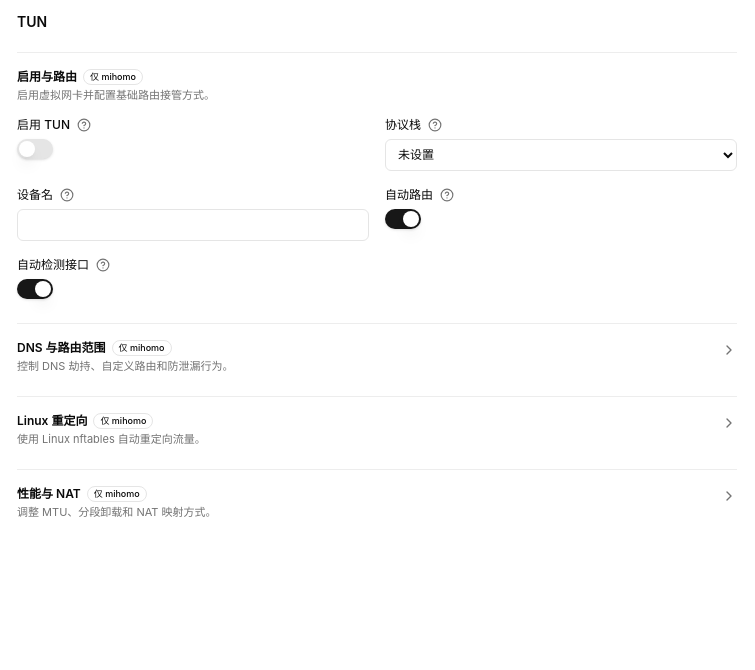
Test: migrated editor UX › keeps non-core fields collapsed by default
Click the button "DNS 与路由范围 仅 mihomo 控制 DNS 劫持、自定义路由和防泄漏行为。".
click(61, 347)  # box [17,340,737,376]
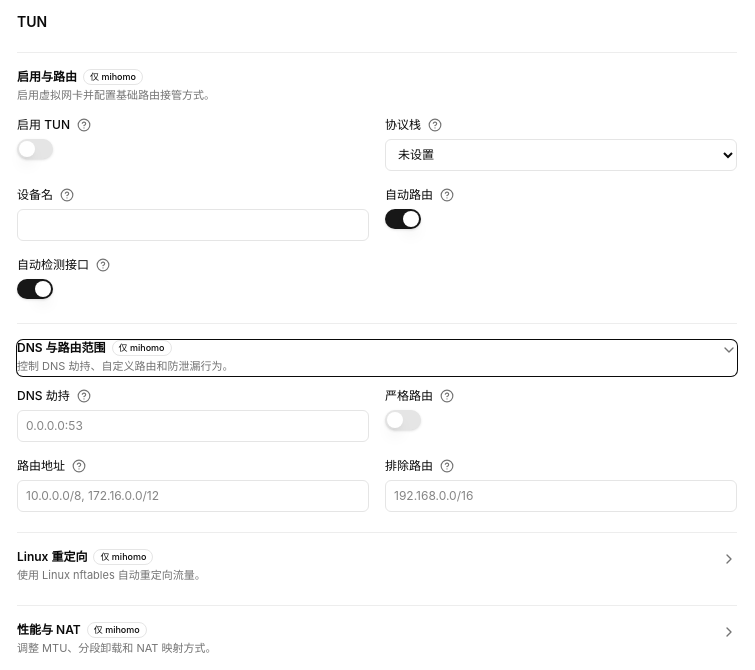
expect the button "DNS 与路由范围 仅 mihomo 控制 DNS 劫持、自定义路由和防泄漏行为。" is expanded: met, box [17,340,737,376]
expect the text "DNS 劫持" is shown: met, box [17,388,70,404]
